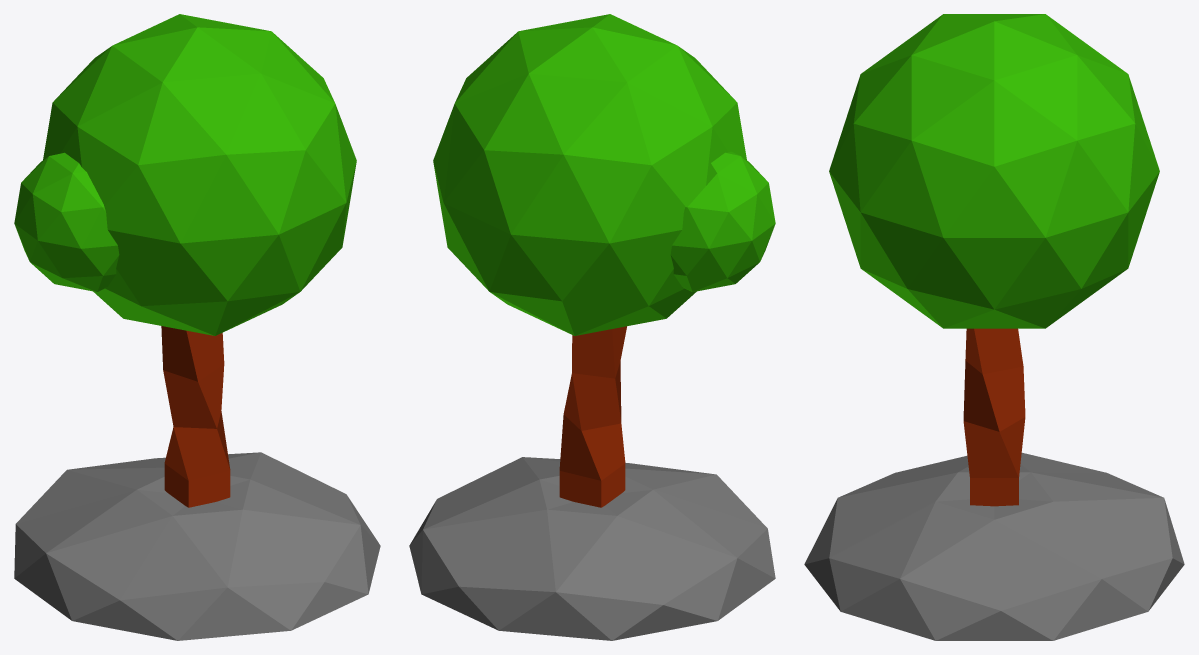
The model's file is low_polly_island.glb.
3 views of the same model, side by side, from view 1: azimuth 30°, elevation 25°; view 2: azimuth 150°, elevation 25°; view 3: azimuth 270°, elevation 25° (orthographic).
Parts seen in each view (by area): view 1: Icosphere.001, Icosphere, Cube; view 2: Icosphere.001, Icosphere, Cube; view 3: Icosphere.001, Icosphere, Cube.
Boxes of the visible parts, <box> form: Icosphere.001: <box>14,14,356,335</box>; Icosphere: <box>14,452,380,640</box>; Cube: <box>161,326,230,507</box>; Icosphere.001: <box>433,14,775,335</box>; Icosphere: <box>409,457,775,640</box>; Cube: <box>559,326,626,507</box>; Icosphere.001: <box>829,14,1159,328</box>; Icosphere: <box>804,452,1184,640</box>; Cube: <box>963,328,1025,506</box>.
Size of the model in its own units: 3.24 by 5.08 by 3.23.
